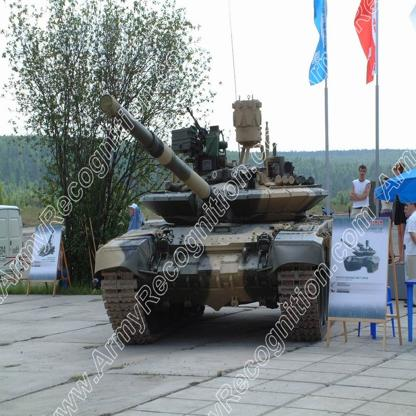Tank: (90, 93, 334, 345)
